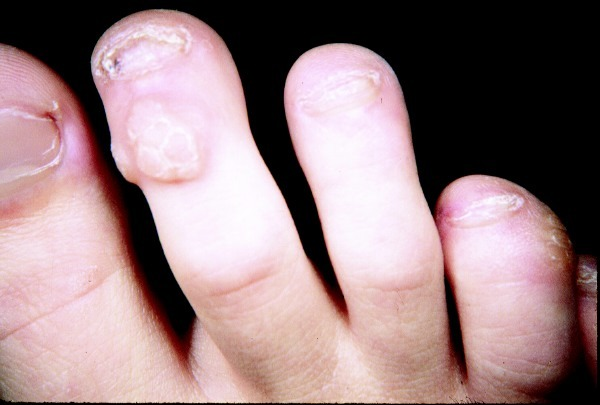Warts: (104, 75, 217, 194)
